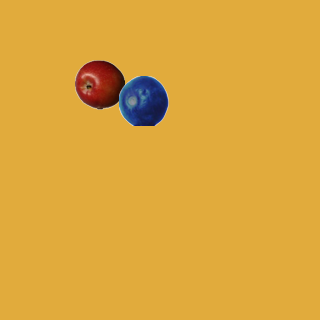Apple Braeburn: (74, 59, 124, 109)
Huckleberry: (118, 75, 168, 125)
